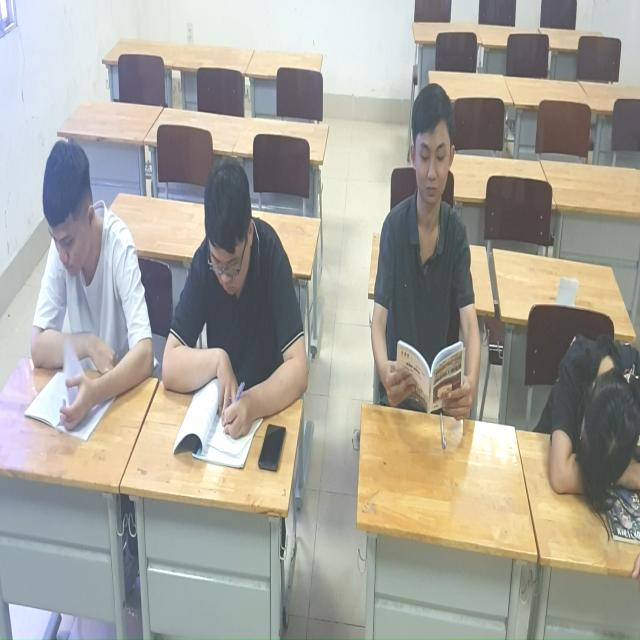read: (151, 140, 317, 479), (359, 86, 487, 470), (22, 133, 152, 452)
sleep: (541, 295, 640, 524)
